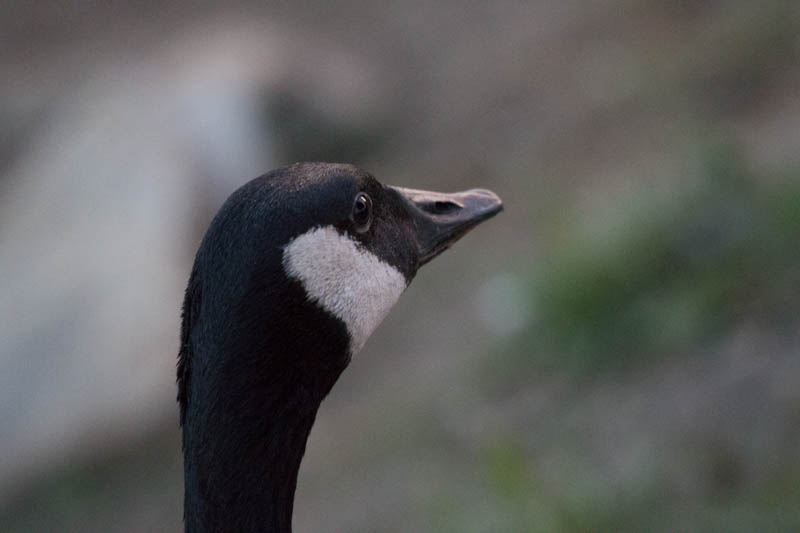goose-head: (176, 160, 502, 423)
